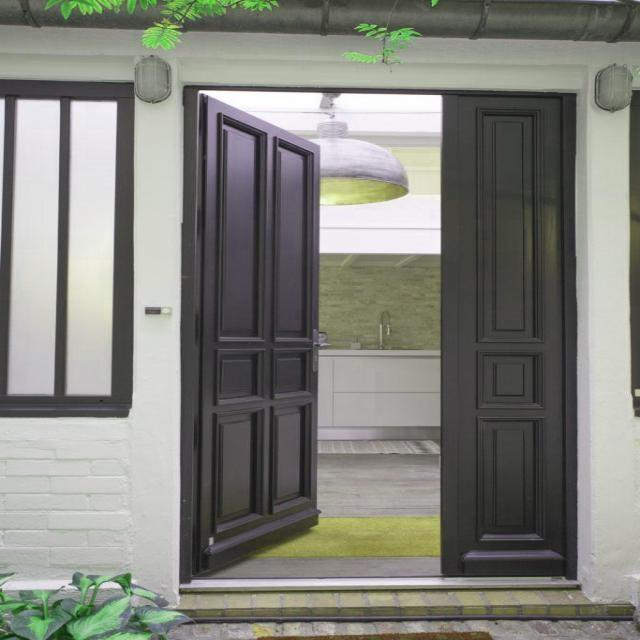door: (192, 93, 320, 574)
